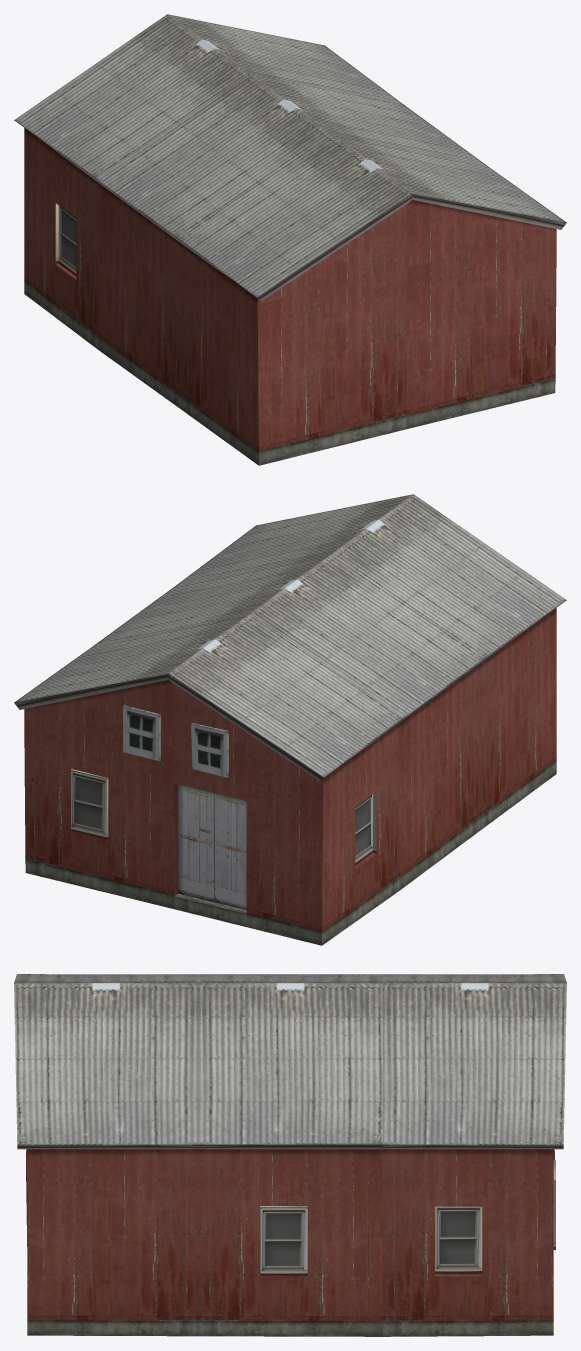
The model's file is barn1.fbx.
3 renders of one model, top to bottom at view 1: azimuth 30°, elevation 25°; view 2: azimuth 150°, elevation 25°; view 3: azimuth 270°, elevation 25°, orthographic. The views are drawn at different scales.
Visible parts, largest first — view 1: barn01; view 2: barn01; view 3: barn01.
Part boxes in pixels (box(x1,y1,x2,y2)): barn01: box(14, 14, 566, 465); barn01: box(14, 494, 566, 945); barn01: box(14, 974, 566, 1336).
Bounding box in the file's own units: 745 × 550 × 1019.
1 material, 1 textured.
